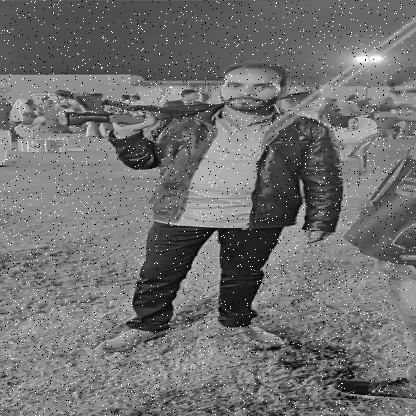rifle: (54, 87, 320, 126)
